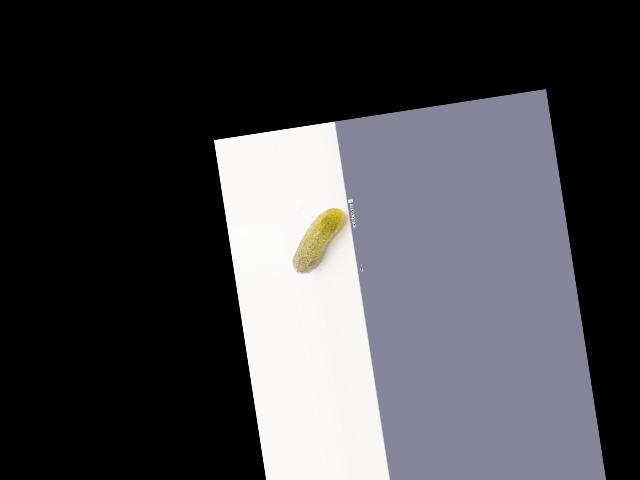cucumber: (285, 206, 353, 275)
